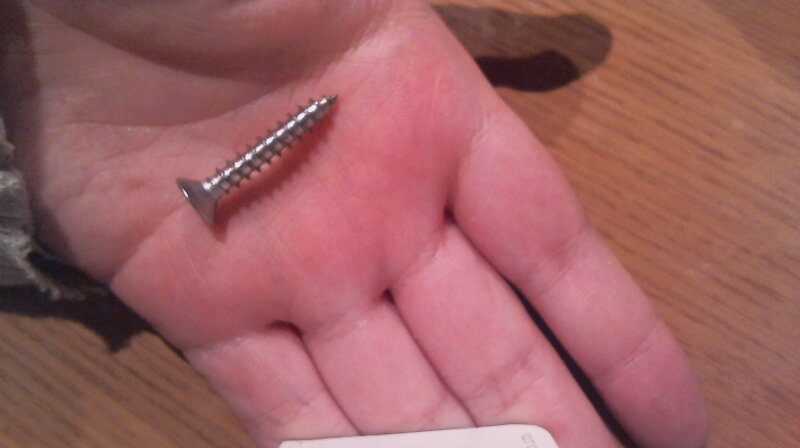S001: (165, 90, 352, 238)
